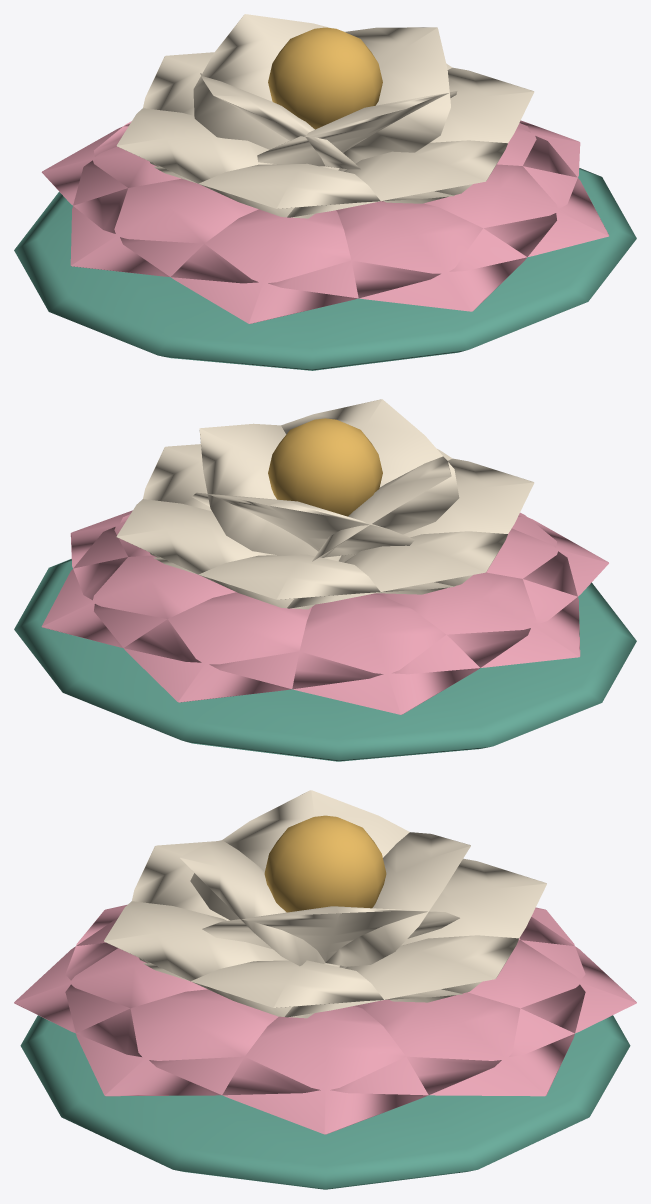
File: lotus.glb
3 renders of one model, top to bottom at view 1: azimuth 30°, elevation 25°; view 2: azimuth 150°, elevation 25°; view 3: azimuth 270°, elevation 25°, orthographic. The views are drawn at different scales.
Visible parts, largest first — view 1: Vesper / lotus; view 2: Vesper / lotus; view 3: Vesper / lotus.
Part boxes in pixels (x1,y1,x2,y2): Vesper / lotus: (14,14,636,370); Vesper / lotus: (14,399,636,761); Vesper / lotus: (14,790,636,1189).
Bounding box in the file's own units: 2 × 0.83 × 1.84.
